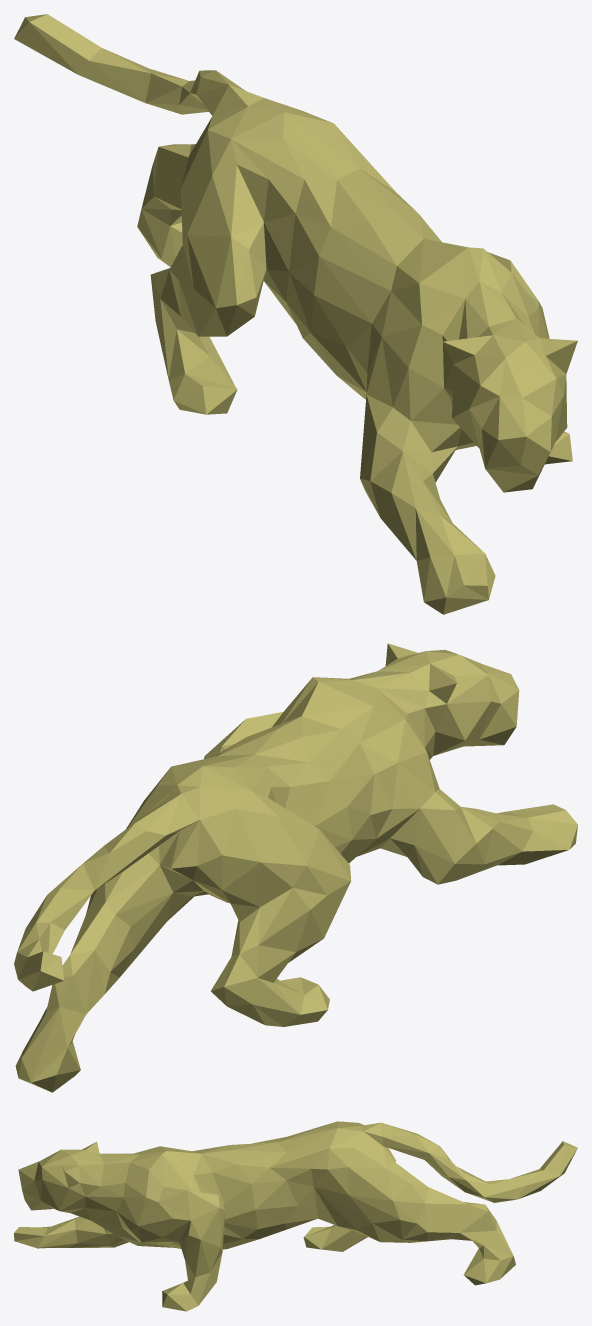
The model's file is Prop_Statue_Panther_01.FBX.
3 renders of one model, top to bottom at view 1: azimuth 30°, elevation 25°; view 2: azimuth 150°, elevation 25°; view 3: azimuth 270°, elevation 25°, orthographic. The views are drawn at different scales.
Visible parts, largest first — view 1: Prop_Statue_Panther_01; view 2: Prop_Statue_Panther_01; view 3: Prop_Statue_Panther_01.
Boxes of the visible parts, x1,y1,x2,y2 form: Prop_Statue_Panther_01: (14, 14, 577, 614); Prop_Statue_Panther_01: (14, 643, 577, 1092); Prop_Statue_Panther_01: (14, 1121, 577, 1311).
Size of the model in its own units: 3145 by 2990 by 10289.
